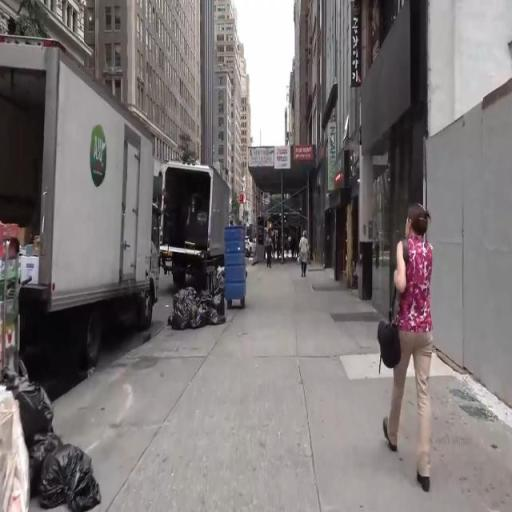person: (380, 199, 445, 473), (299, 231, 312, 276), (266, 235, 274, 268)
